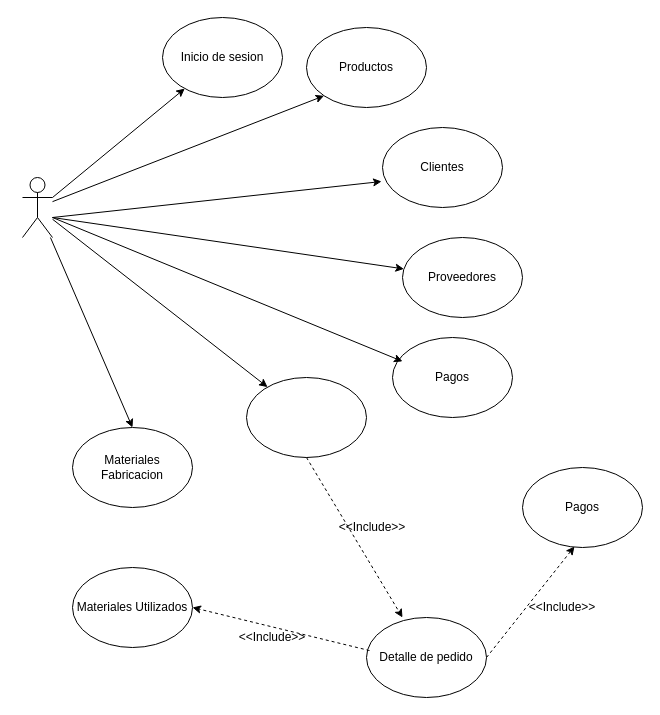
The diagram is 660 pixels wide and 715 high, and some of its shapes have lost their labels. Here are the shapes that lost their labels. From the top down, the centre of each, then its label:
[37,207]: Usuario
[306,417]: Pedido
